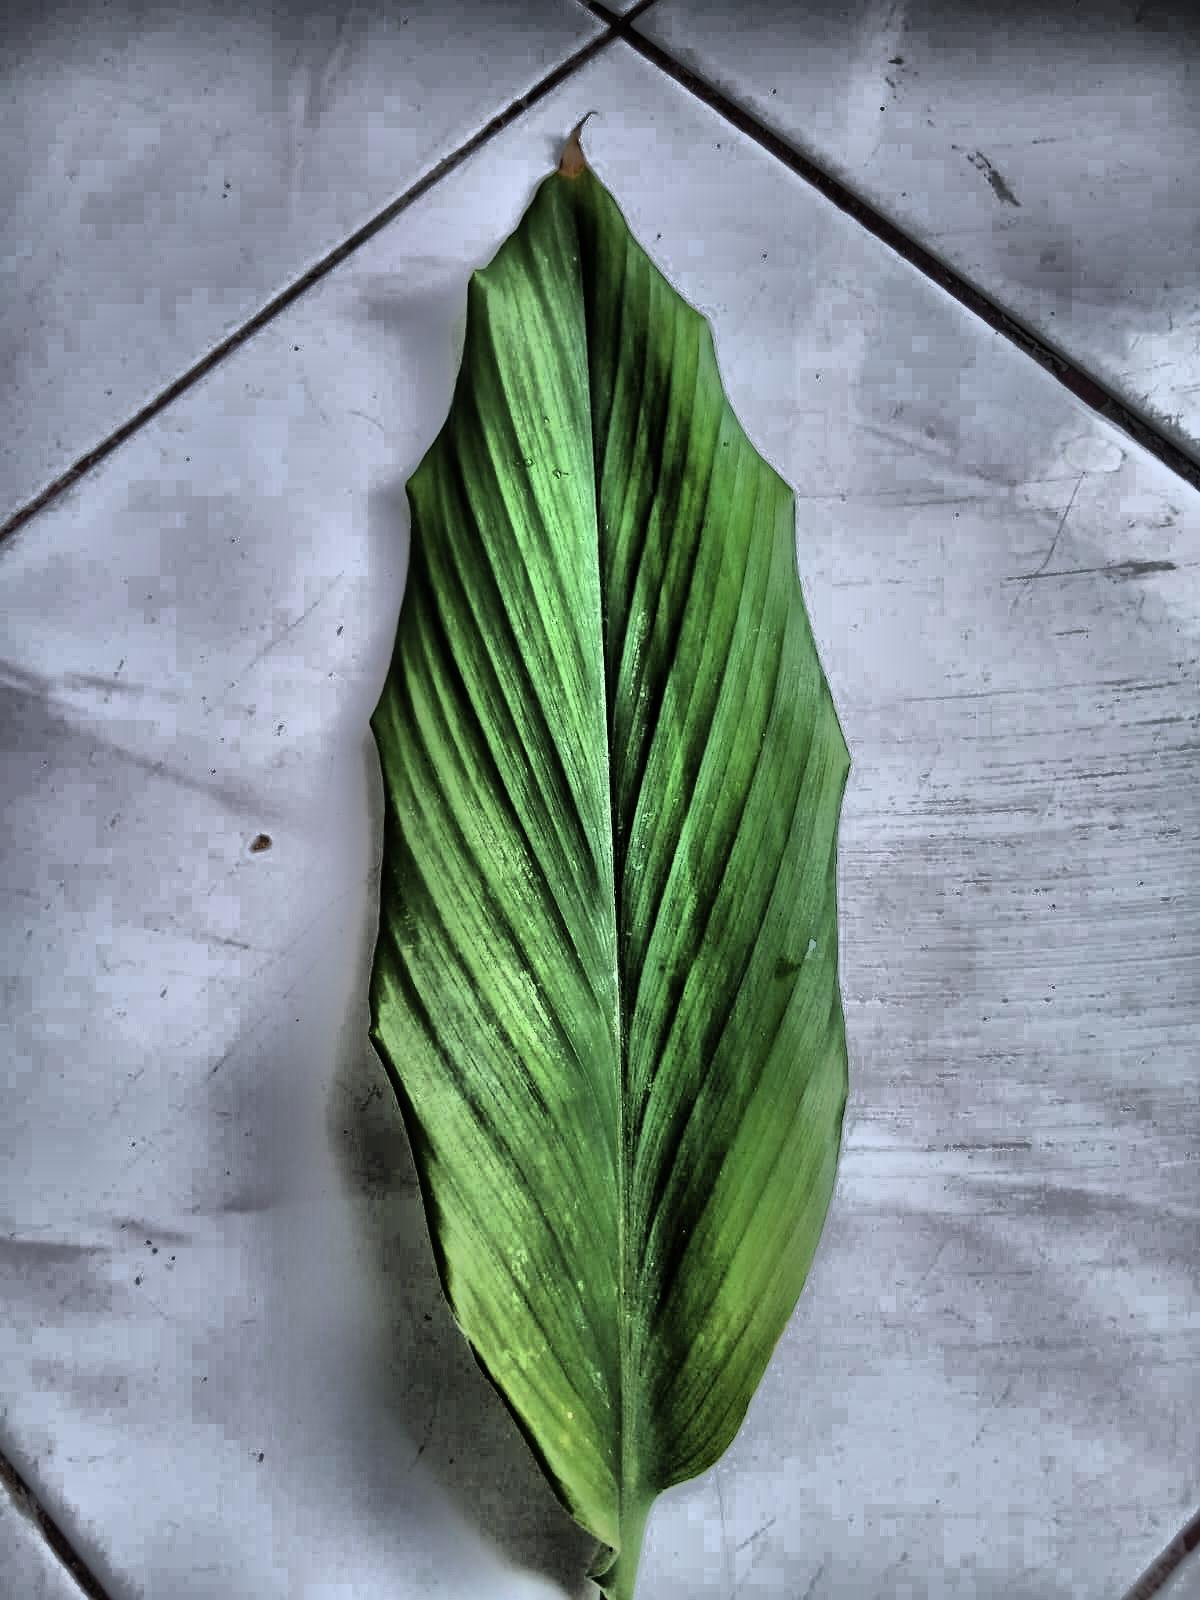daun kunyit: (371, 142, 848, 1599)
